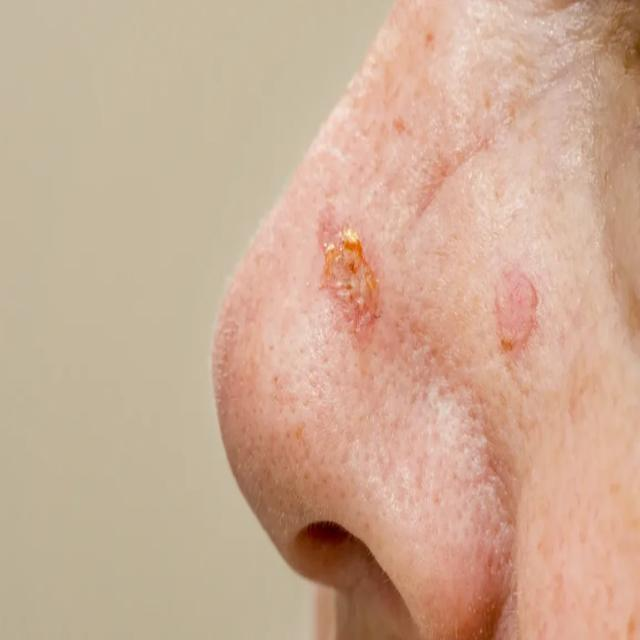piel: (208, 0, 639, 639)
